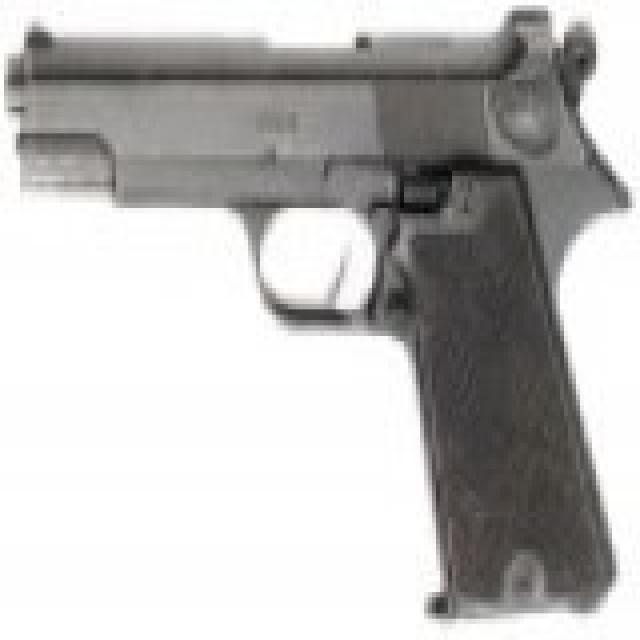Gun: (8, 9, 612, 606)
